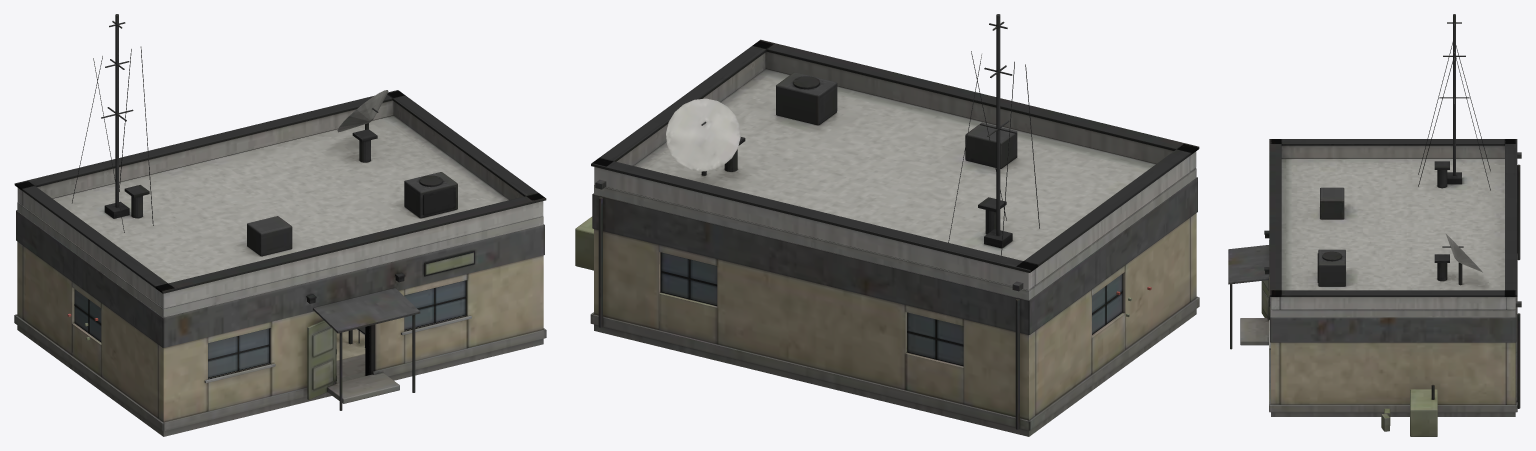
Rendered from bldD.glb.
3 renders of one model, left to right at view 1: azimuth 30°, elevation 25°; view 2: azimuth 150°, elevation 25°; view 3: azimuth 270°, elevation 25°, orthographic. The views are drawn at different scales.
Parts seen in each view (by area): view 1: BldD_Roof, BldD_Shell, BldD_Interior; view 2: BldD_Roof, BldD_Shell; view 3: BldD_Roof, BldD_Shell.
Boxes of the visible parts, x1,y1,x2,y2 form: BldD_Roof: (14,14,546,317); BldD_Shell: (14,210,546,436); BldD_Interior: (67,313,365,360); BldD_Roof: (591,14,1199,300); BldD_Shell: (575,177,1199,436); BldD_Roof: (1269,14,1517,317); BldD_Shell: (1228,152,1521,436).
Size of the model in its own units: 14.88 by 9.85 by 9.6.
3 materials, 3 textured.
